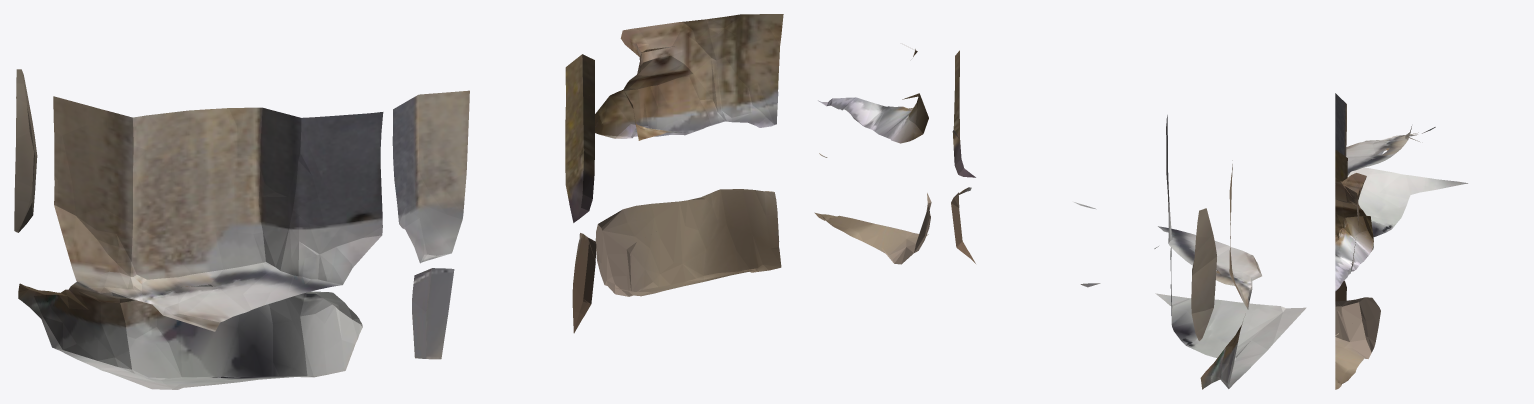
The picture shows the model from 3 angles, left to right: view 1: azimuth 30°, elevation 25°; view 2: azimuth 150°, elevation 25°; view 3: azimuth 270°, elevation 25°; orthographic projection. The views are drawn at different scales.
Size of the model in its own units: 1.37 by 0.5588 by 0.5168.
1 material, 1 textured.
